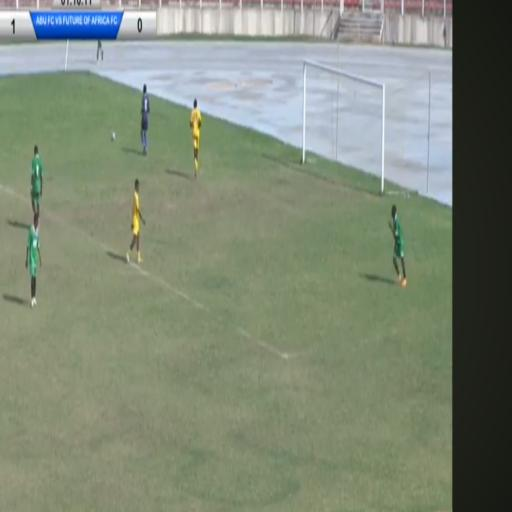ball: (108, 123, 120, 149)
keeper1: (138, 78, 150, 158)
team1: (186, 93, 206, 185), (131, 172, 147, 272)
team2: (381, 195, 411, 292), (26, 210, 44, 314), (24, 138, 45, 216)
